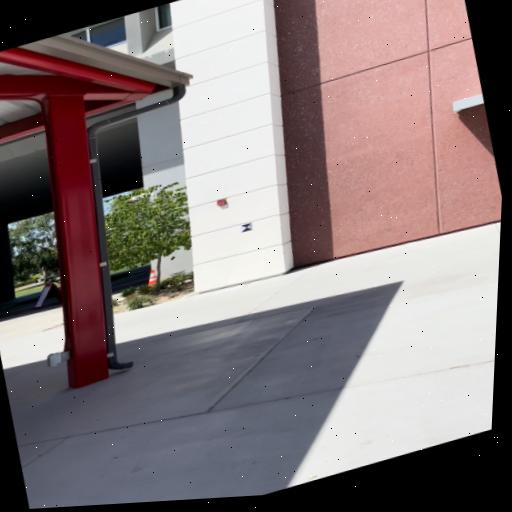target2: (240, 222, 254, 233)
